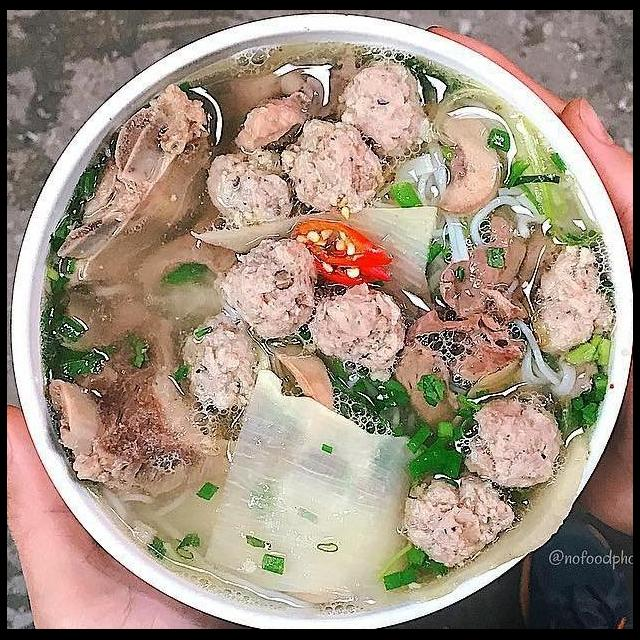bun: (391, 136, 550, 268)
vien moc: (399, 470, 520, 580), (451, 389, 572, 496), (213, 235, 327, 348), (278, 111, 390, 222), (337, 52, 440, 170), (305, 282, 409, 388), (171, 302, 264, 418), (528, 240, 618, 358), (201, 146, 300, 237)
